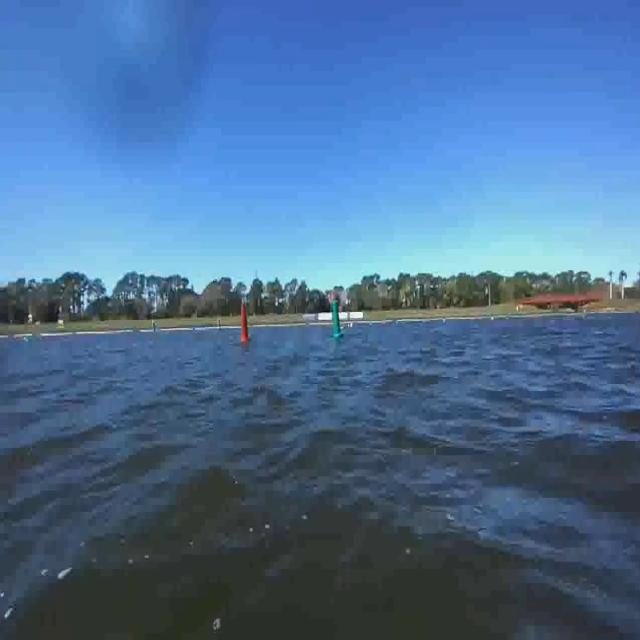green-column-buoy: (326, 296, 351, 343)
red-column-buoy: (230, 296, 256, 358)
